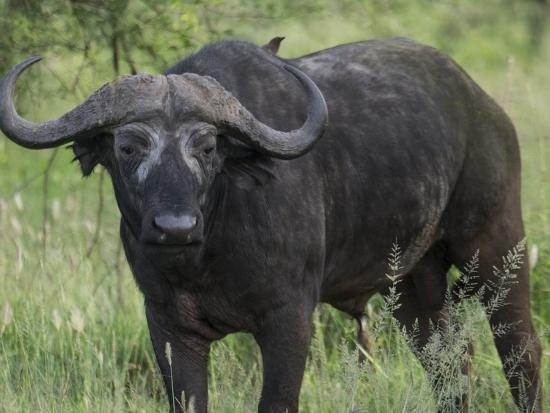buffalo: (0, 36, 541, 407)
